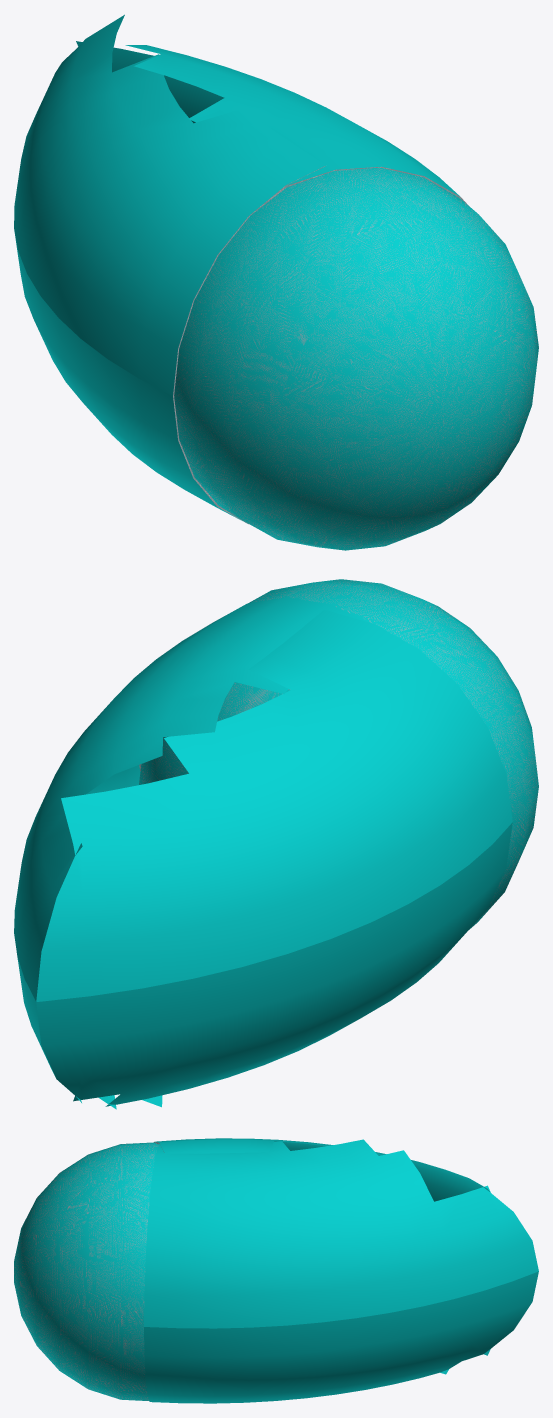
Rendered from awkbullet.fbx.
The picture shows the model from 3 angles, top to bottom: view 1: azimuth 30°, elevation 25°; view 2: azimuth 150°, elevation 25°; view 3: azimuth 270°, elevation 25°; orthographic projection. The views are drawn at different scales.
Parts seen in each view (by area): view 1: Model; view 2: Model; view 3: Model.
Part boxes in pixels (x1,y1,x2,y2): Model: (14, 14, 538, 550); Model: (14, 579, 538, 1109); Model: (14, 1138, 538, 1403).
Bounding box in the file's own units: 10.47 × 10.01 × 20.13.
